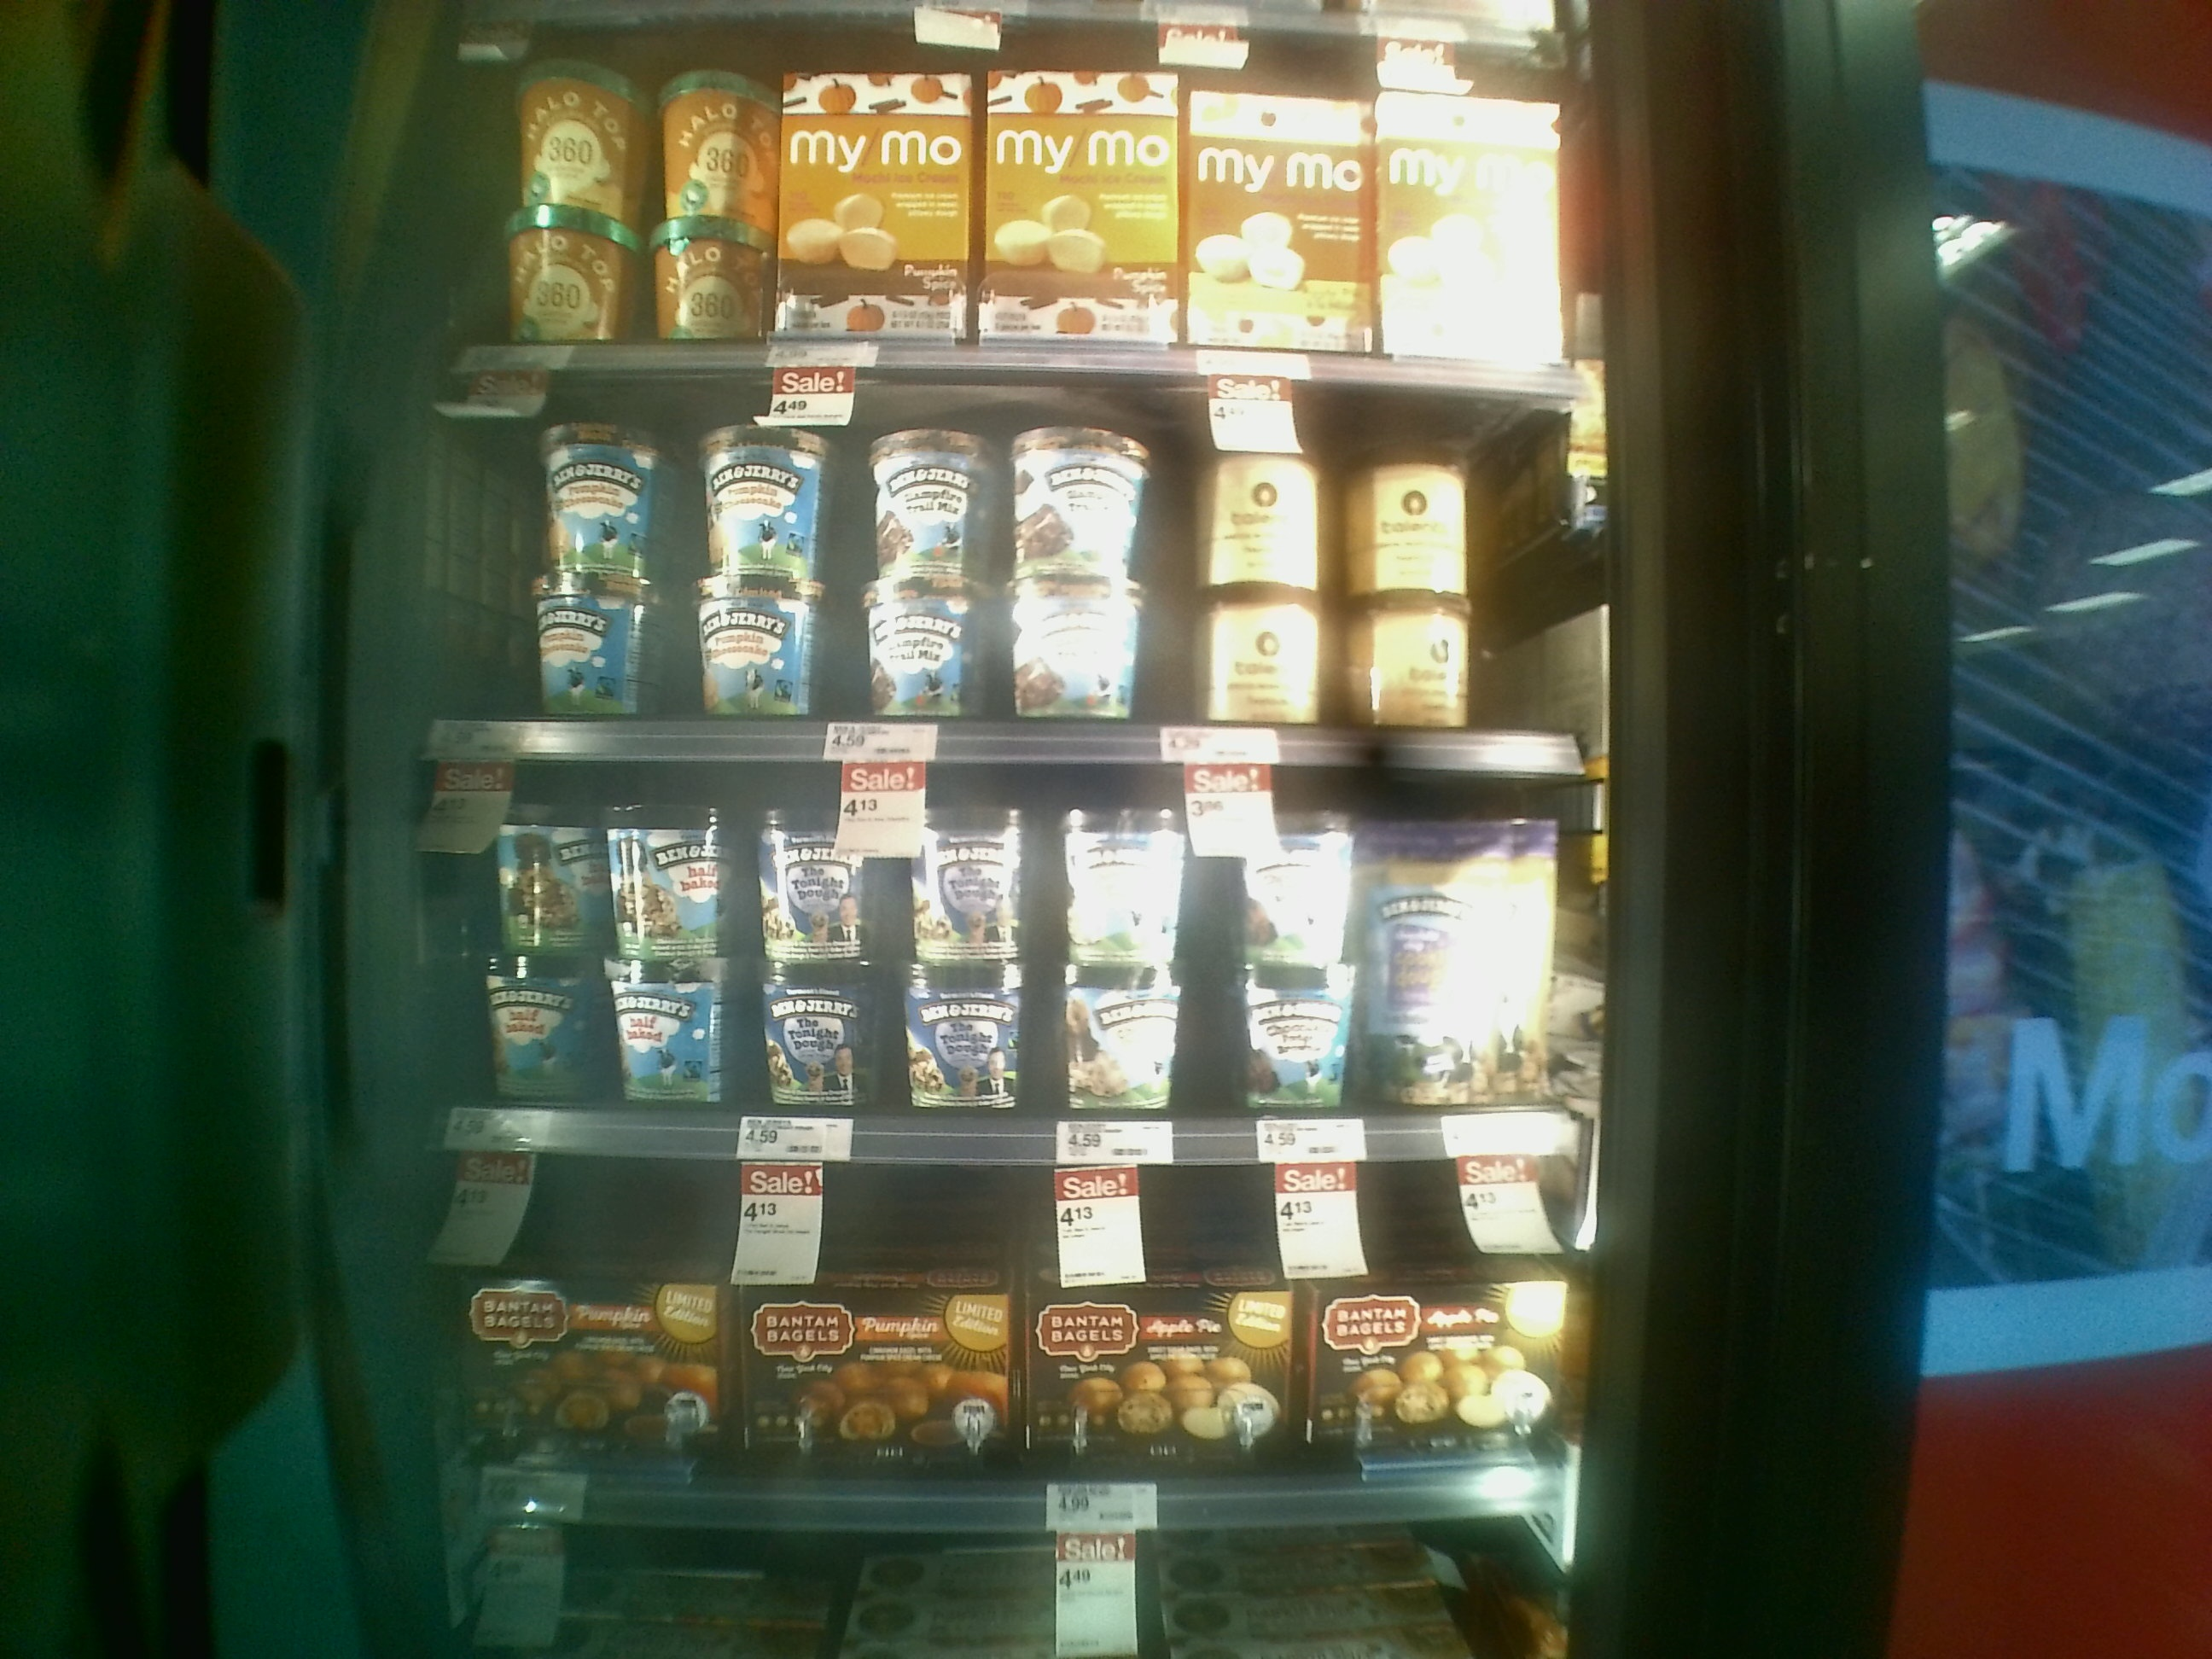shelf: (402, 347, 1608, 774), (399, 737, 1602, 1161), (392, 1127, 1583, 1528)
